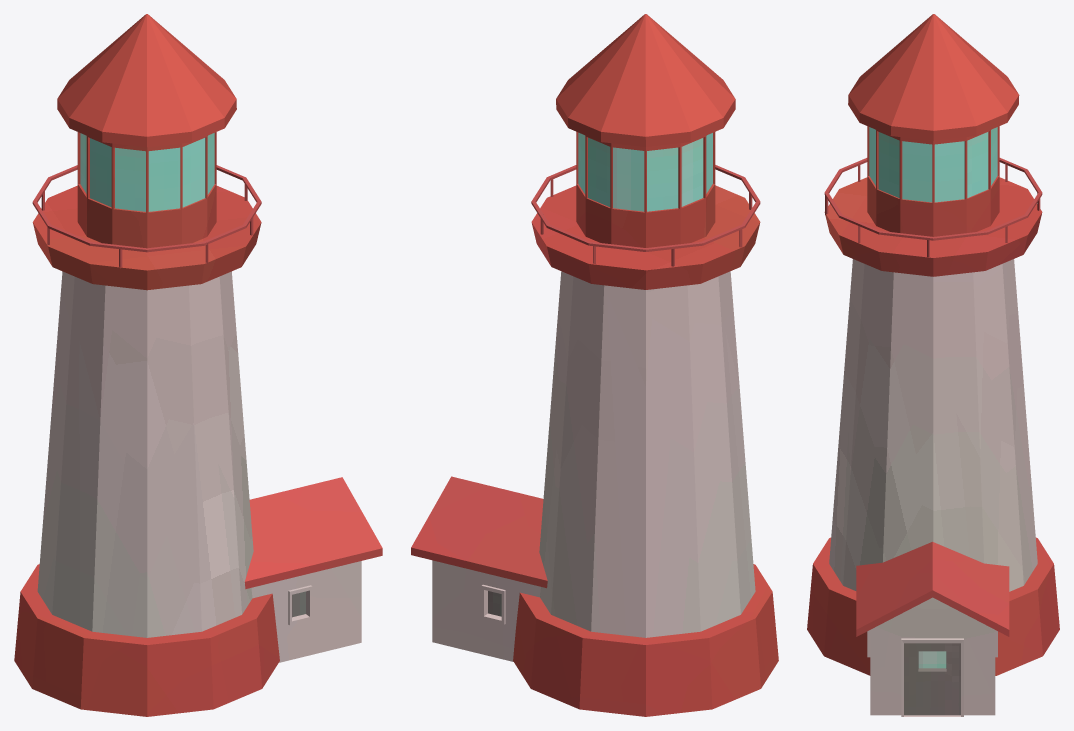
Rendered from CHAHIN_LIGHTHOUSE.obj.
The picture shows the model from 3 angles, left to right: view 1: azimuth 30°, elevation 25°; view 2: azimuth 150°, elevation 25°; view 3: azimuth 270°, elevation 25°; orthographic projection. The views are drawn at different scales.
Parts seen in each view (by area): view 1: Cube.001_Cube.000; view 2: Cube.001_Cube.000; view 3: Cube.001_Cube.000.
Part boxes in pixels (x1,y1,x2,y2): Cube.001_Cube.000: (14, 14, 382, 716); Cube.001_Cube.000: (411, 14, 778, 716); Cube.001_Cube.000: (807, 14, 1059, 716).
Bounding box in the file's own units: 12.49 × 24.94 × 9.27.
Materials: 1 (1 with a texture image).
